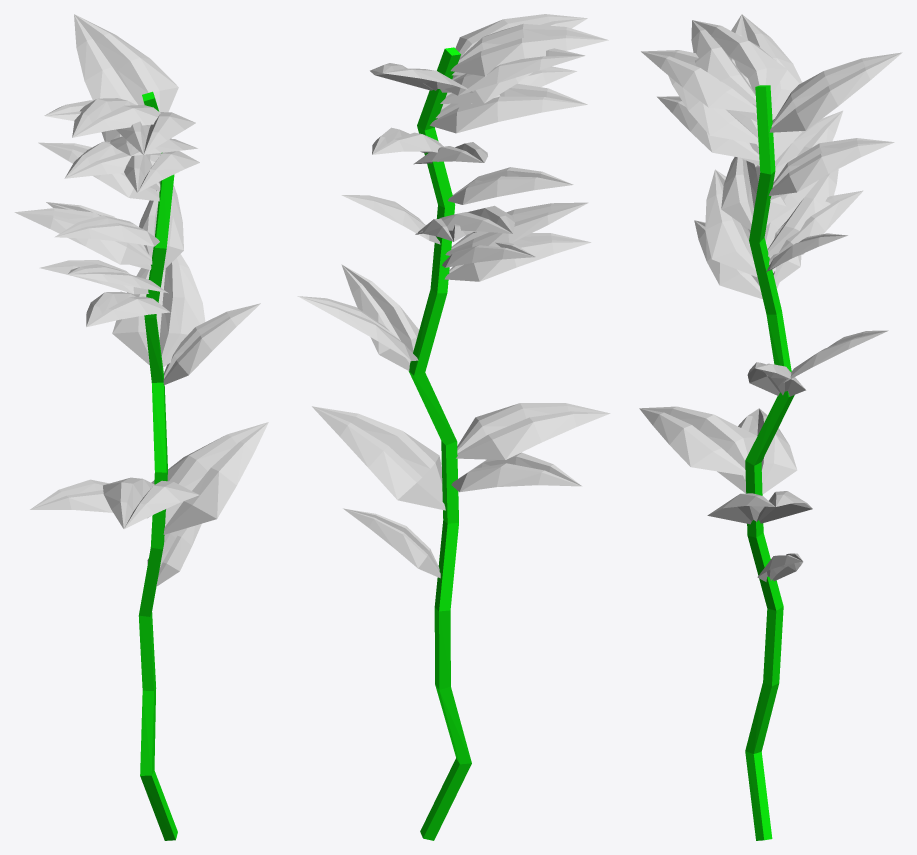
File: grasBig_4.fbx
3 renders of one model, left to right at view 1: azimuth 30°, elevation 25°; view 2: azimuth 150°, elevation 25°; view 3: azimuth 270°, elevation 25°, orthographic. The views are drawn at different scales.
Visible parts, largest first — view 1: quickmaterial1; view 2: quickmaterial1; view 3: quickmaterial1.
Boxes of the visible parts, box(x1,y1,x2,y2) form: quickmaterial1: box(14, 14, 268, 840); quickmaterial1: box(297, 14, 610, 840); quickmaterial1: box(639, 14, 902, 840).
Bounding box in the file's own units: 0.3475 × 1.05 × 0.3223.
